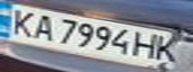4: (112, 26, 133, 57)
7: (51, 16, 78, 47)
9: (69, 20, 97, 50), (90, 23, 115, 53)
A: (27, 11, 60, 43)
H: (130, 29, 160, 61)
K: (3, 7, 42, 37), (151, 32, 187, 63)
